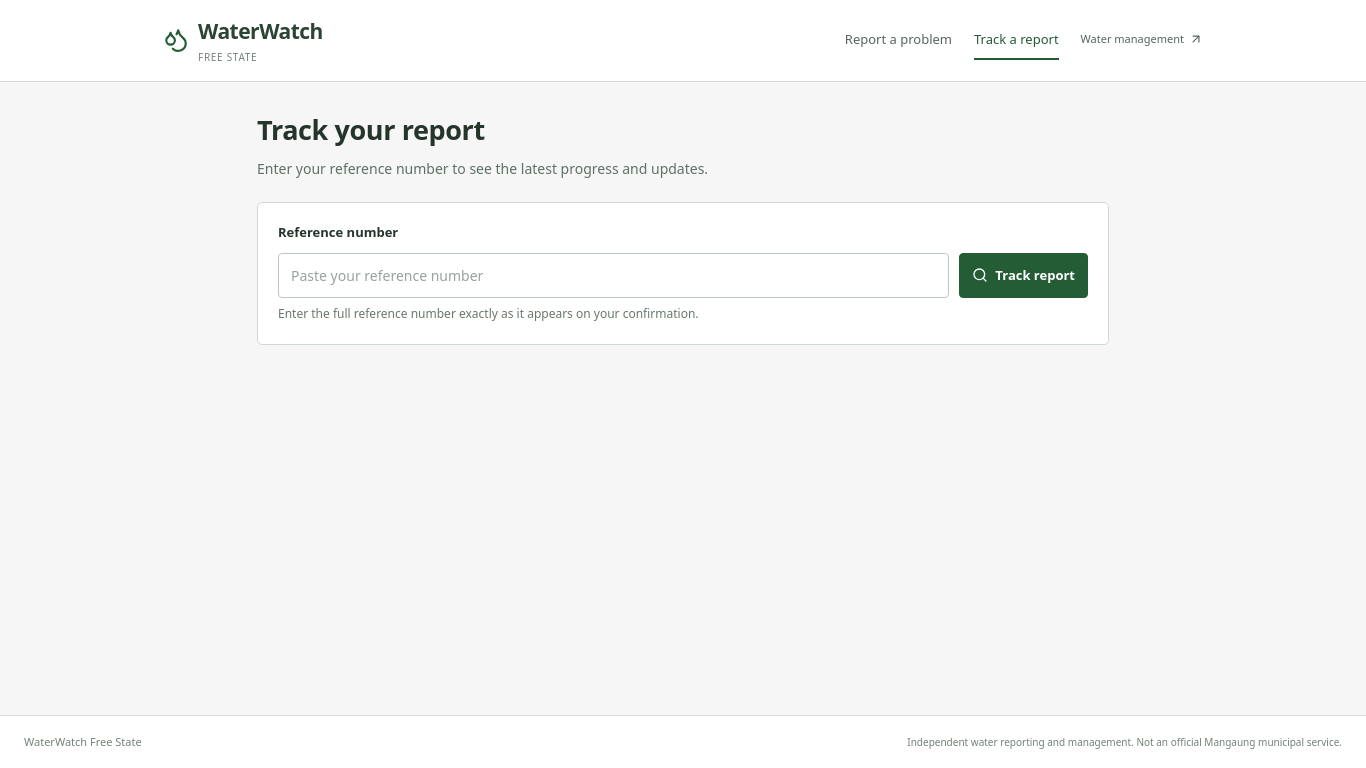
Test: resident tracking › validates the full reference before a lookup
Click the field labelled "Reference number" at (614, 275), box [278,253,949,298]
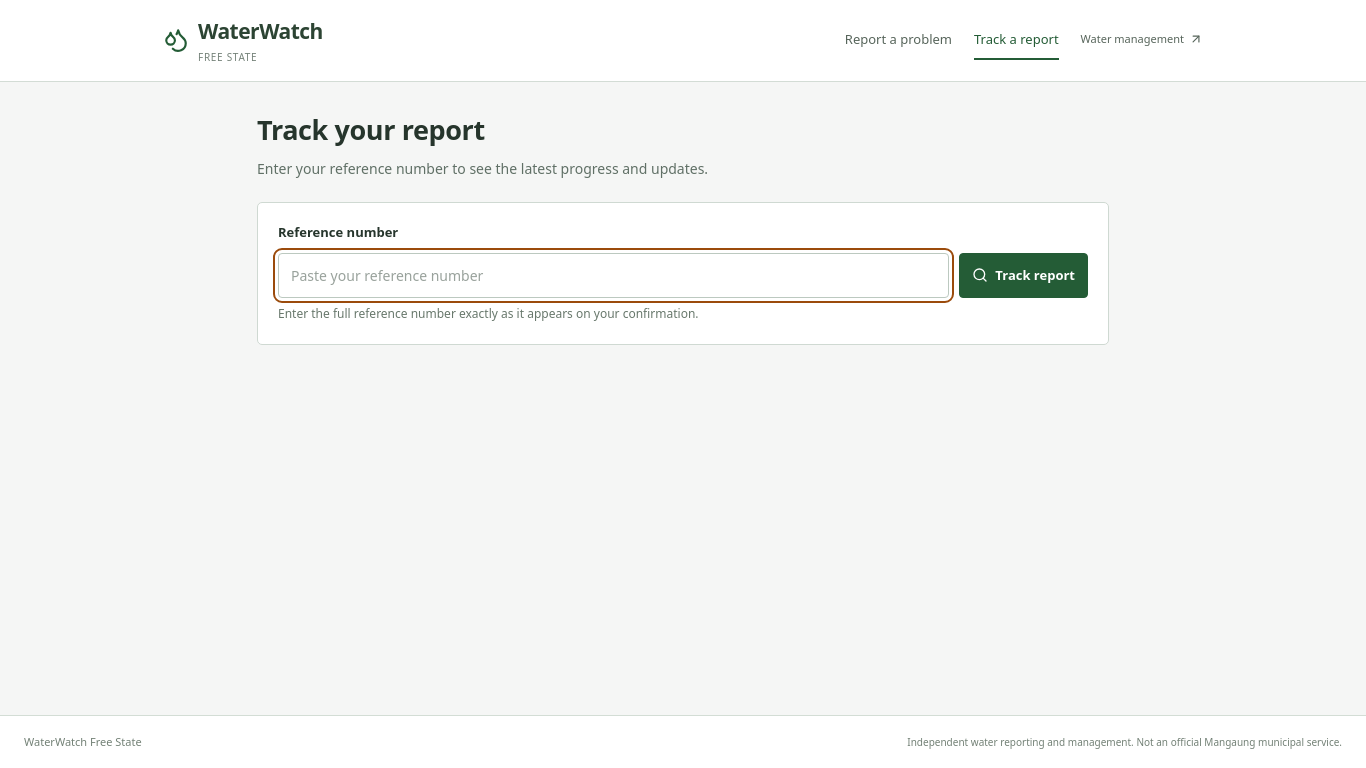
Type keys "short"
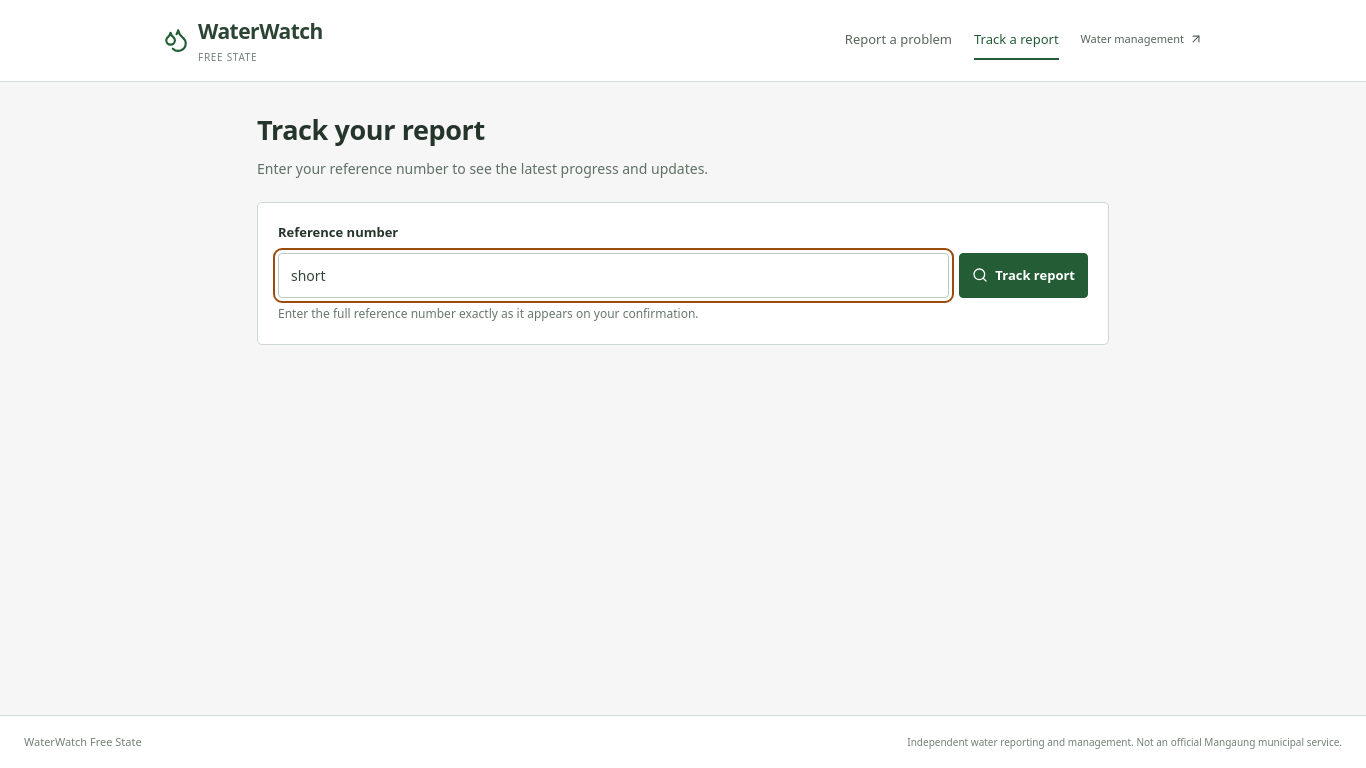
Click the button "Track report" at (1024, 275), box [959,253,1088,298]
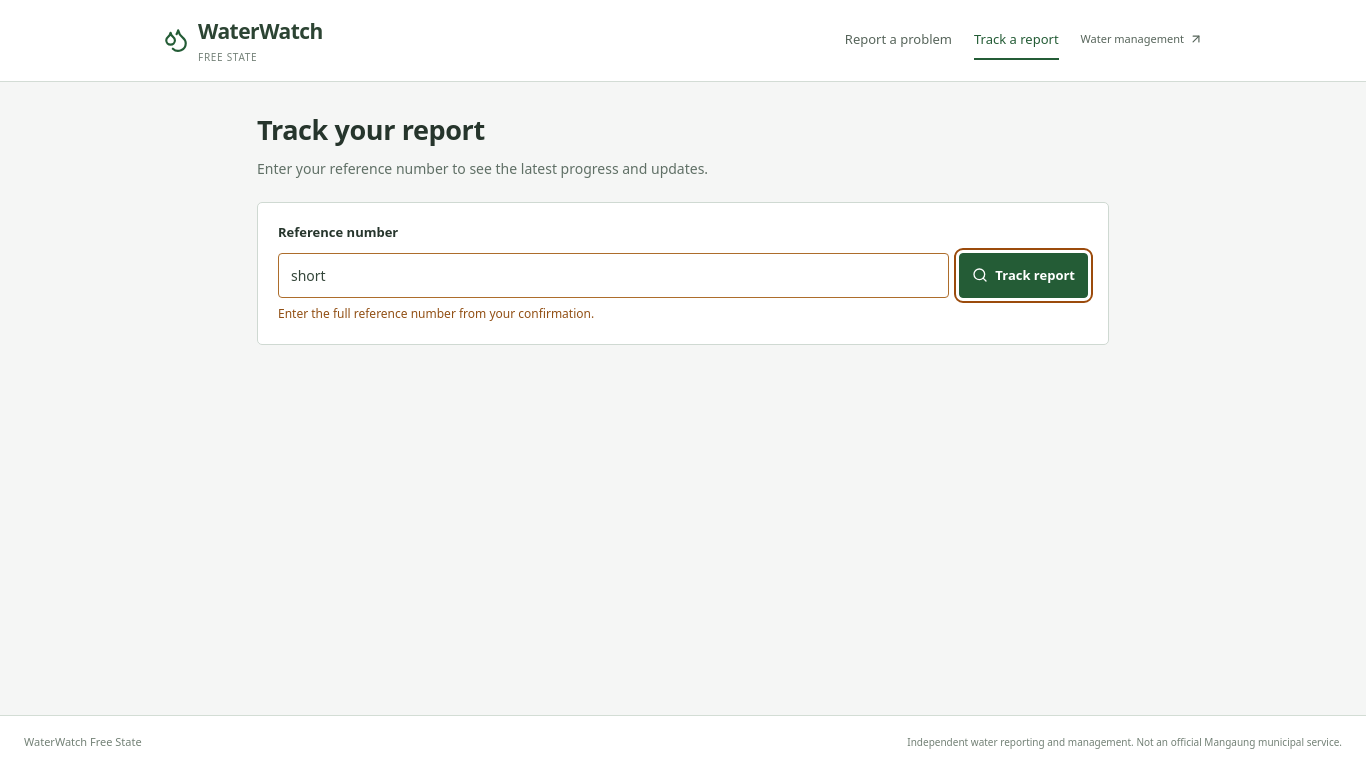
Expected: the text "Enter the full reference number from your confirmation." is shown, [278,305,594,322]
